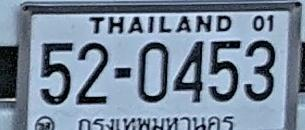0: (138, 41, 169, 102)
2: (76, 42, 108, 104)
3: (244, 39, 276, 101)
4: (174, 40, 203, 102)
5: (41, 42, 74, 104), (209, 39, 241, 102)
BKK: (77, 115, 237, 130)
